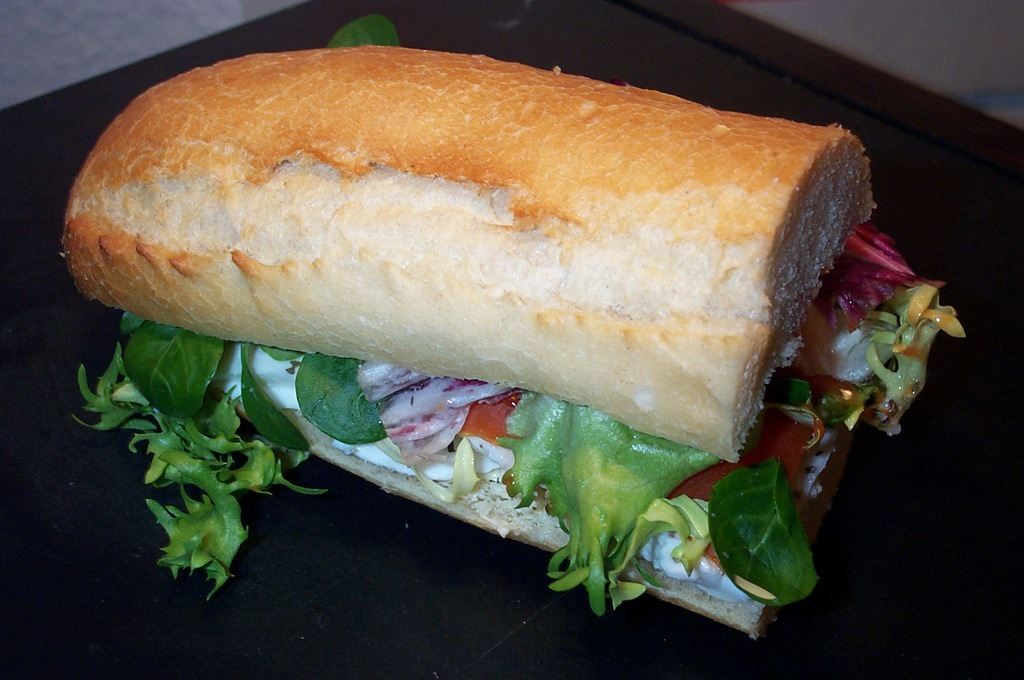sandwich: (61, 38, 961, 641)
